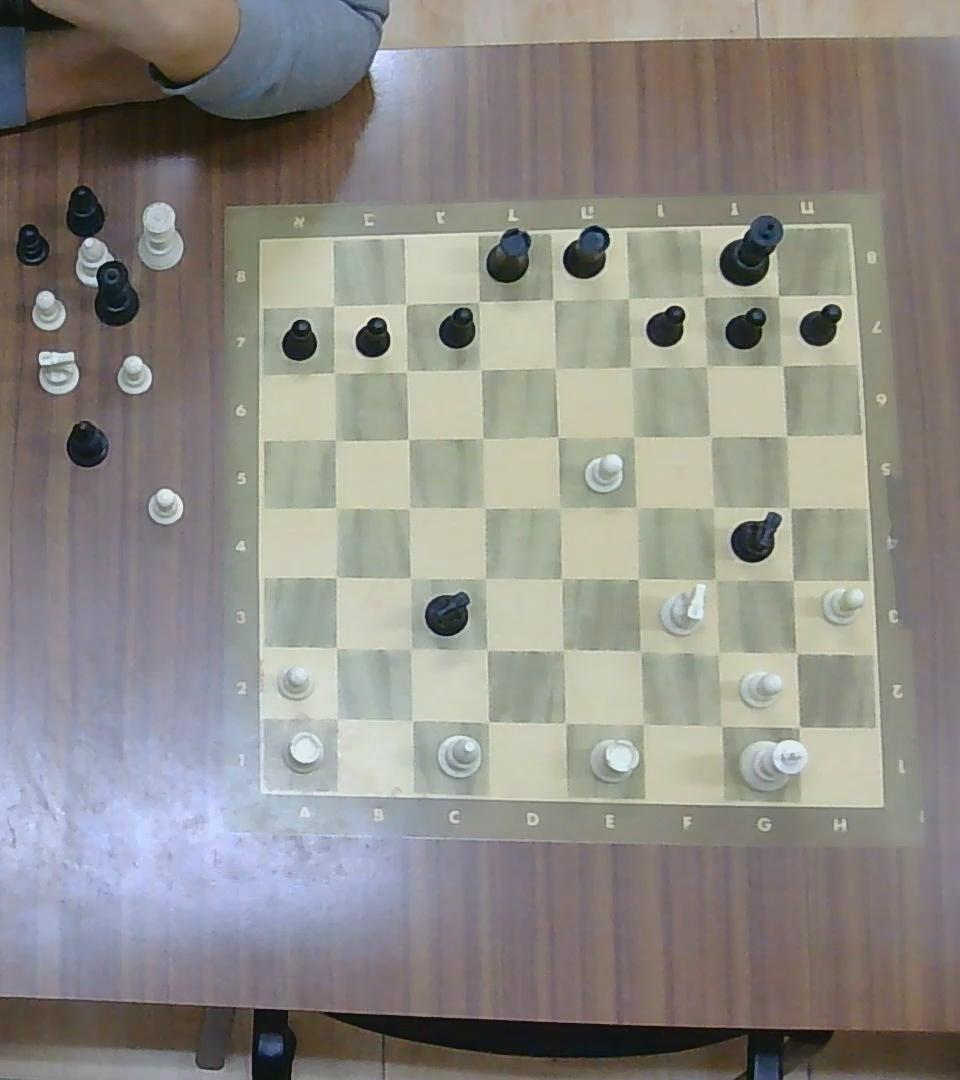xcorner: (624, 705, 659, 739), (702, 707, 738, 740), (781, 708, 815, 742), (701, 636, 734, 669), (548, 705, 580, 739), (624, 635, 656, 667), (780, 637, 812, 669), (547, 633, 578, 665), (470, 633, 501, 665), (396, 703, 427, 734), (320, 701, 351, 732), (622, 563, 652, 594), (471, 705, 502, 735), (547, 563, 577, 594), (470, 563, 501, 593), (700, 563, 730, 594), (394, 634, 424, 664), (320, 562, 350, 591), (320, 633, 350, 662), (545, 493, 574, 522), (622, 491, 651, 520), (395, 562, 424, 591), (698, 492, 728, 520), (470, 492, 499, 520), (777, 566, 806, 594), (467, 422, 495, 451), (543, 421, 572, 449), (619, 421, 648, 449), (775, 492, 804, 520), (616, 352, 645, 380), (538, 284, 566, 313), (393, 425, 422, 452), (322, 494, 350, 521), (395, 493, 423, 519), (696, 422, 723, 448), (542, 353, 569, 379), (693, 351, 720, 377), (321, 426, 349, 451), (615, 285, 641, 311), (467, 355, 492, 380), (393, 357, 419, 381), (393, 291, 418, 315), (466, 288, 491, 312), (773, 423, 798, 447), (323, 359, 348, 383), (691, 285, 715, 308), (770, 352, 793, 376), (767, 284, 790, 306), (323, 295, 345, 315)
